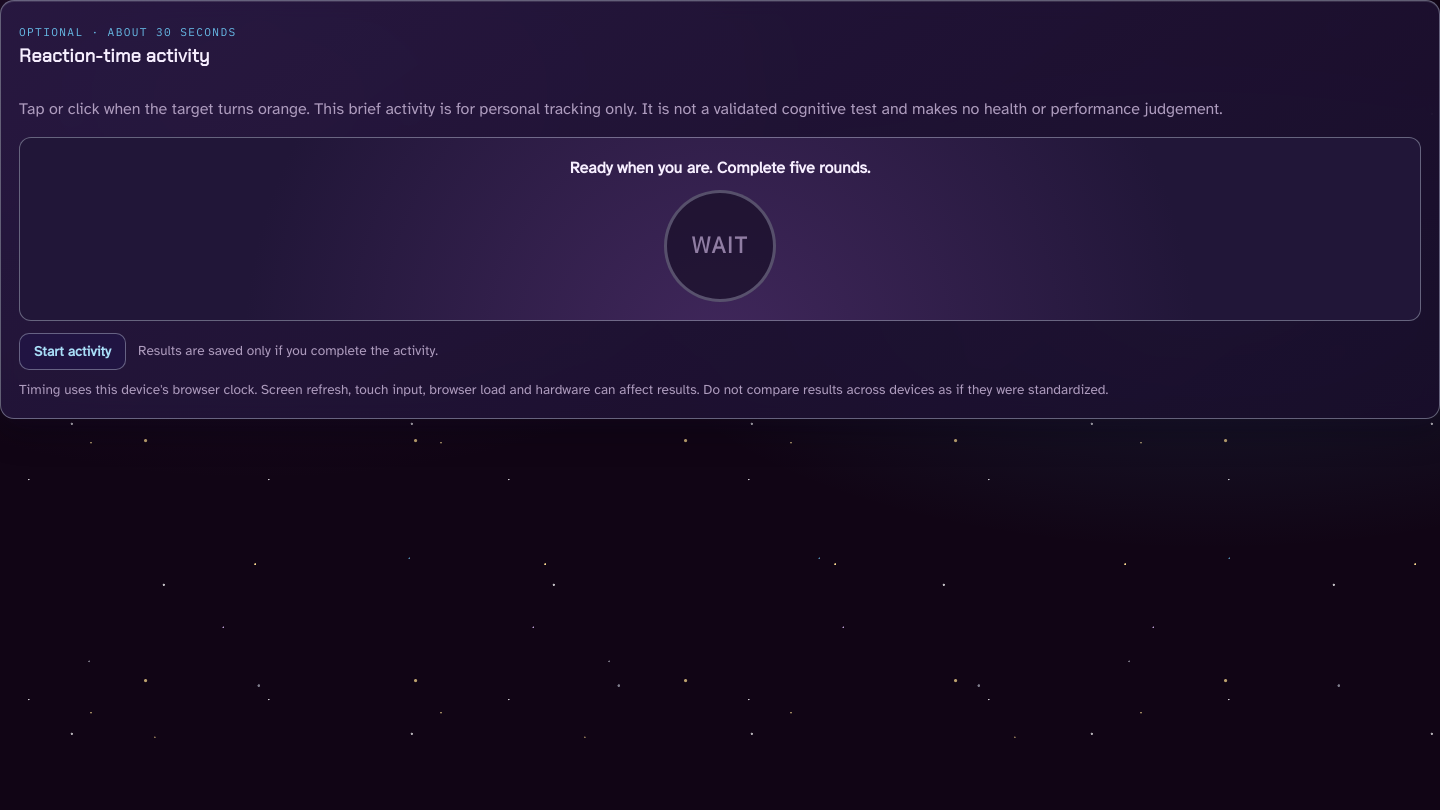
Scenario: ReactionTimeTask › detects an early tap as 'Too soon' and saves nothing (bug fixed from original)
This screenshot has width=1440, height=810.
Click the button "Start activity" at {"x": 73, "y": 351}, box [19, 333, 126, 370]
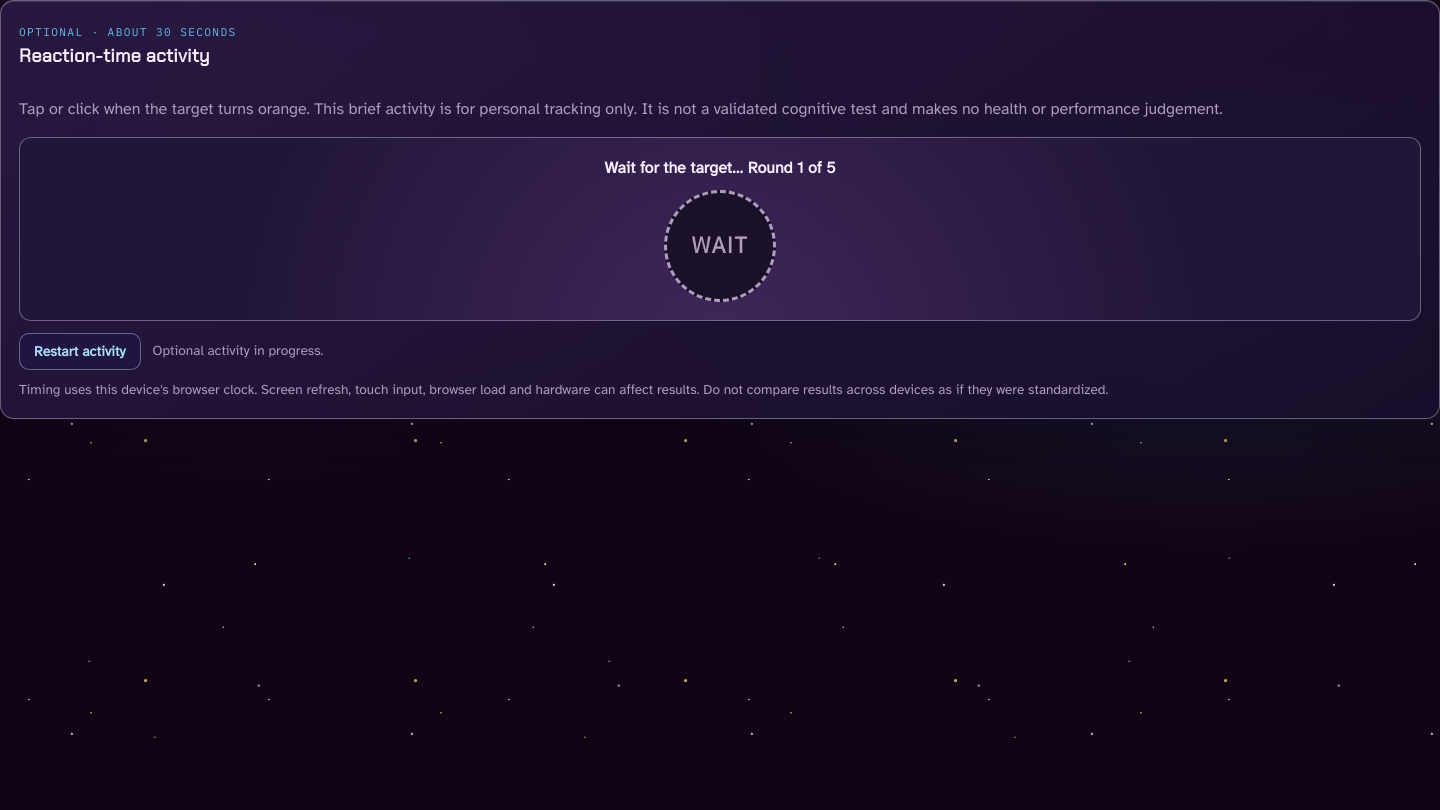
Expected: the button with aria-label "Target: wait" is enabled
Click the button with aria-label "Target: wait" at {"x": 720, "y": 246}, box [664, 190, 776, 302]
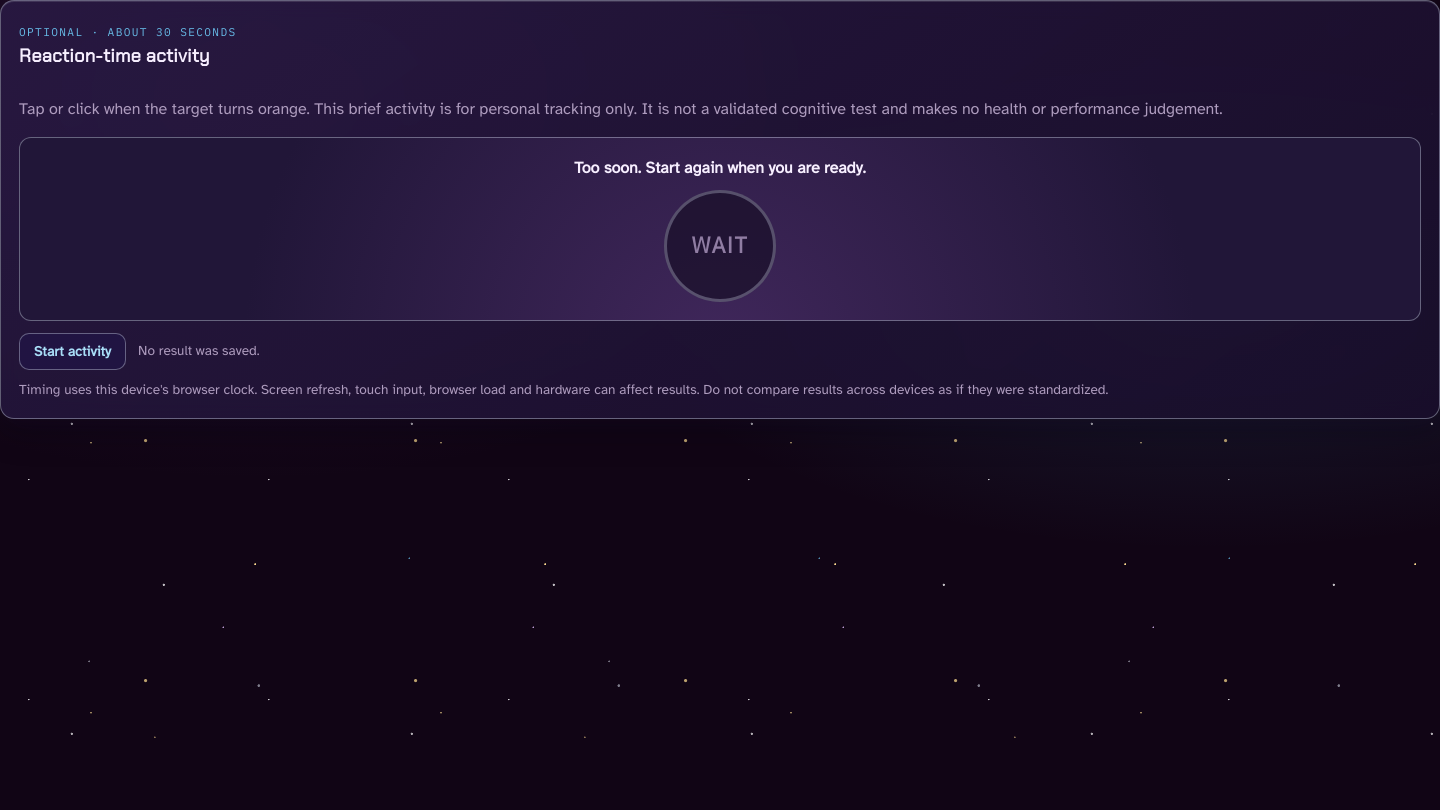
Expected: the text "Too soon. Start again when you are ready." is shown, [574, 156, 866, 180]
